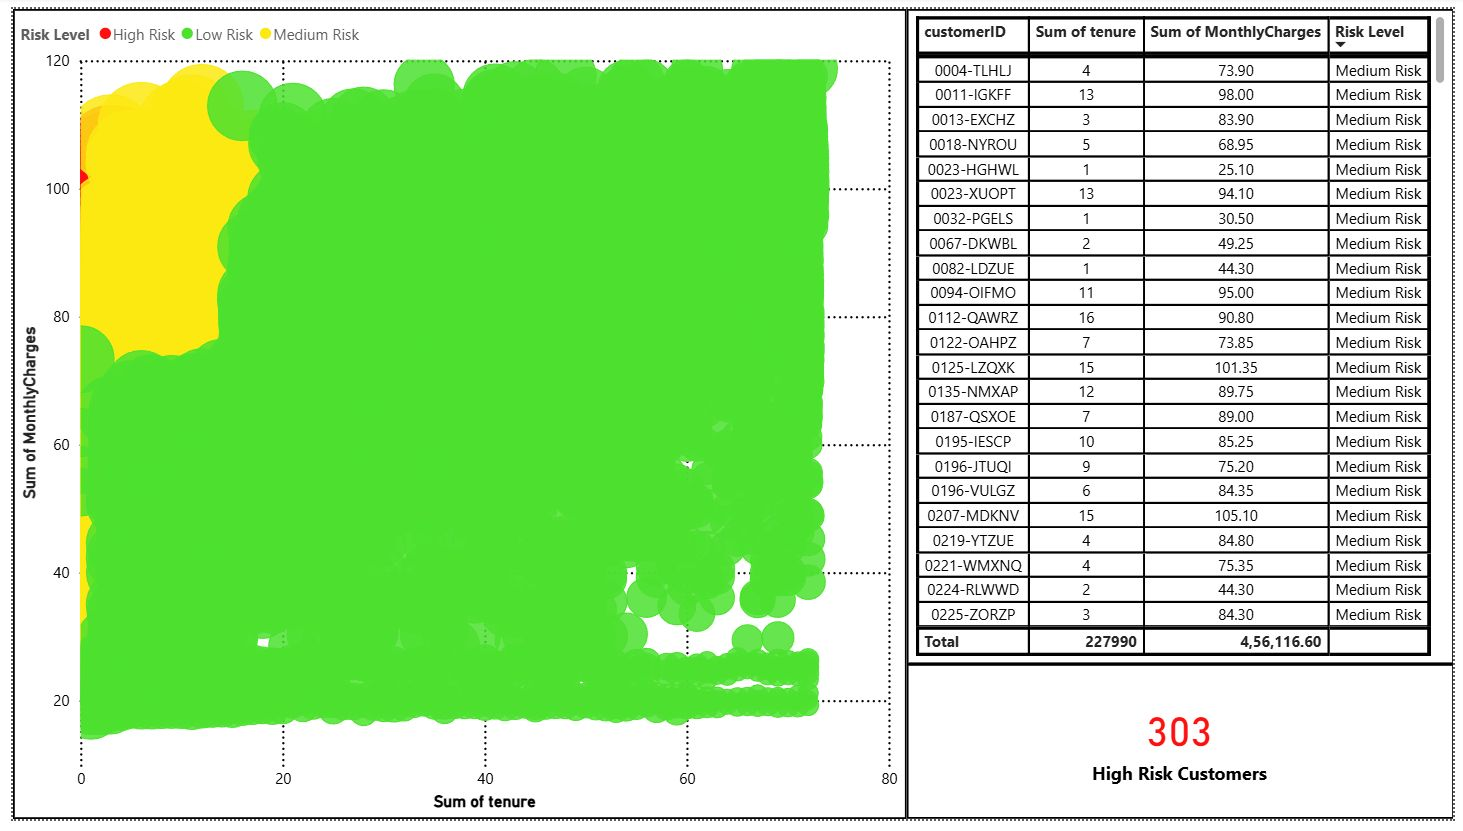

The dashboard page shown, as its layout file describes it:
{"tool":"powerbi","page":{"name":"Risk Segmentation","canvas":[1280,720],"ordinal":2},"visuals":[{"type":"scatterChart","fields":{"X":["Sum(churn_output.tenure)"],"Y":["Sum(churn_output.MonthlyCharges)"],"Series":["churn_output.Risk Level"],"Size":["Sum(churn_output.churn_risk)"],"Category":["churn_output.customerID"]},"box":[0,0,794.2,719.8],"z":0},{"type":"tableEx","fields":{"Values":["churn_output.customerID","Sum(churn_output.tenure)","Sum(churn_output.MonthlyCharges)","churn_output.Risk Level"]},"box":[794.2,0,486,582.6],"z":1000},{"type":"card","fields":{"Values":["churn_output.High Risk Customers"]},"box":[794.2,582.6,486,137.2],"z":2000}]}

Visuals, with their boxes in screenshot pixels (x1, y1, x2, y2), scaled from the page's 1280x720 canvas onto the 1463x831 screenshot:
scatterChart - Sum(churn_output.tenure) x Sum(churn_output.MonthlyCharges): detection(0, 0, 908, 830)
tableEx - churn_output.customerID x Sum(churn_output.tenure): detection(908, 0, 1462, 672)
card - churn_output.High Risk Customers: detection(908, 672, 1462, 830)
